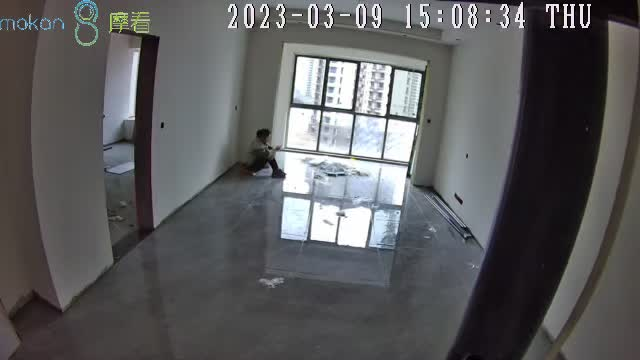people: (247, 128, 287, 178)
window: (285, 53, 425, 163)
